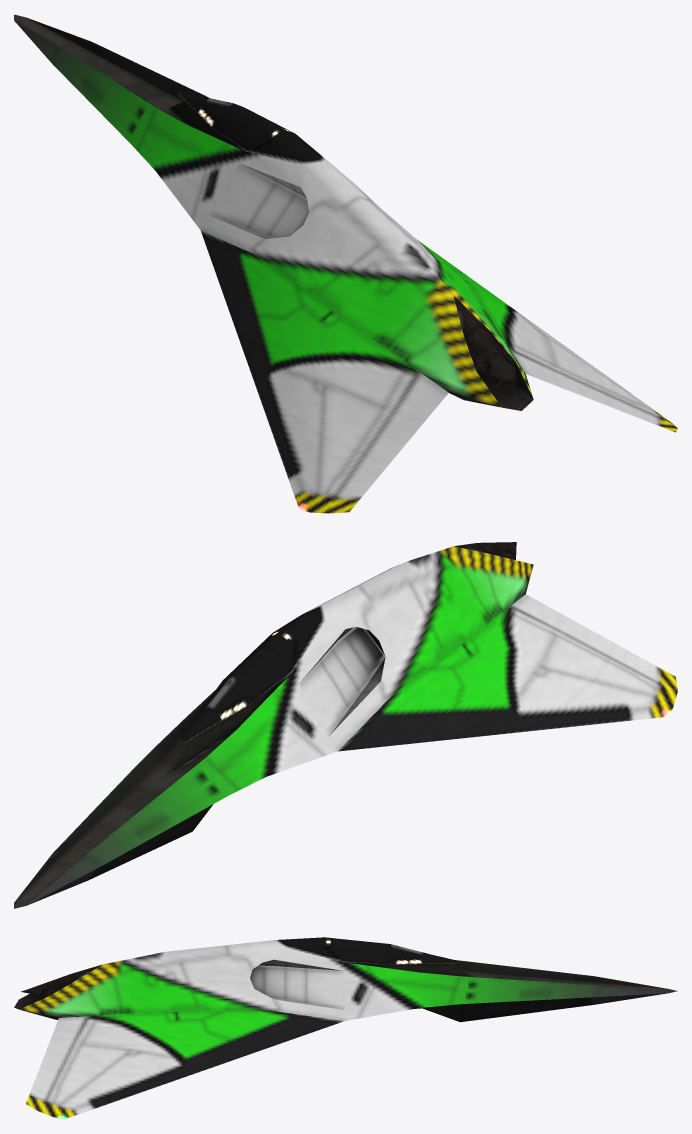
The model's file is Barracuda.FBX.
3 renders of one model, top to bottom at view 1: azimuth 30°, elevation 25°; view 2: azimuth 150°, elevation 25°; view 3: azimuth 270°, elevation 25°, orthographic. The views are drawn at different scales.
Parts seen in each view (by area): view 1: Barracuda; view 2: Barracuda; view 3: Barracuda.
Part boxes in pixels (x1,y1,x2,y2): Barracuda: (14, 14, 677, 513); Barracuda: (14, 542, 677, 908); Barracuda: (14, 937, 677, 1119).
Size of the model in its own units: 6.42 by 3.15 by 15.33.
